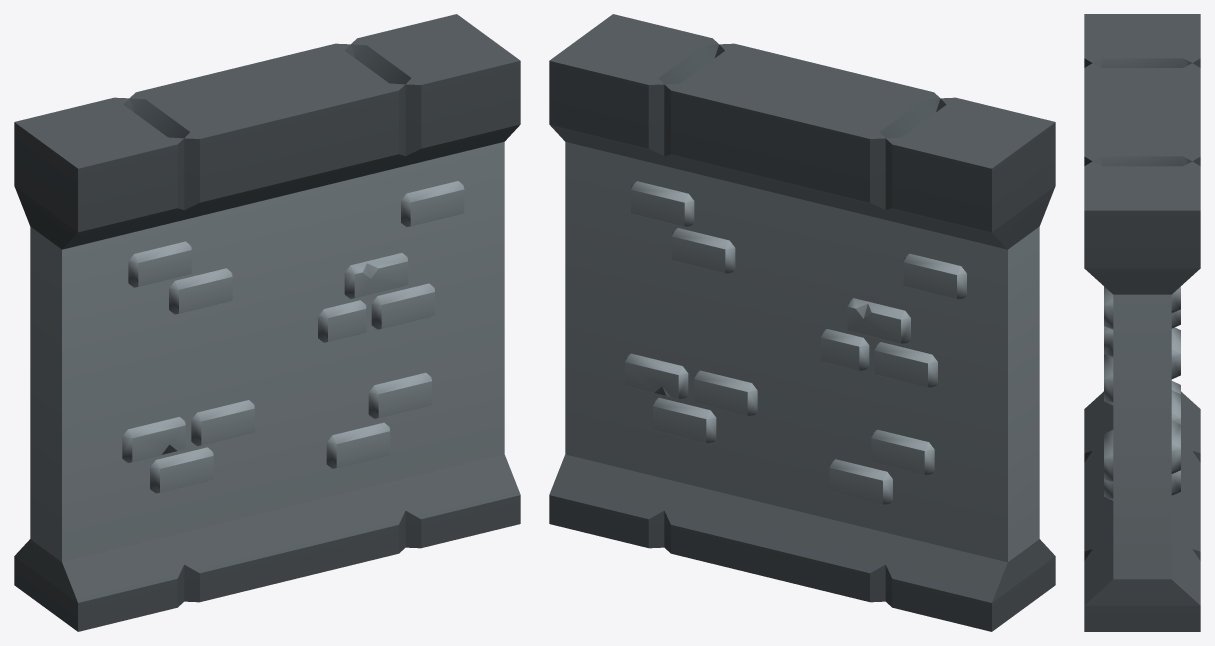
File: wall_prison_B.glb
The picture shows the model from 3 angles, left to right: view 1: azimuth 30°, elevation 25°; view 2: azimuth 150°, elevation 25°; view 3: azimuth 270°, elevation 25°; orthographic projection. The views are drawn at different scales.
Visible parts, largest first — view 1: Item; view 2: Item; view 3: Item.
Boxes of the visible parts, bbox=[...] form: Item: bbox=[14, 14, 520, 631]; Item: bbox=[549, 14, 1055, 631]; Item: bbox=[1084, 14, 1200, 631].
Size of the model in its own units: 4 by 4 by 1.
Materials: 1 (1 with a texture image).
